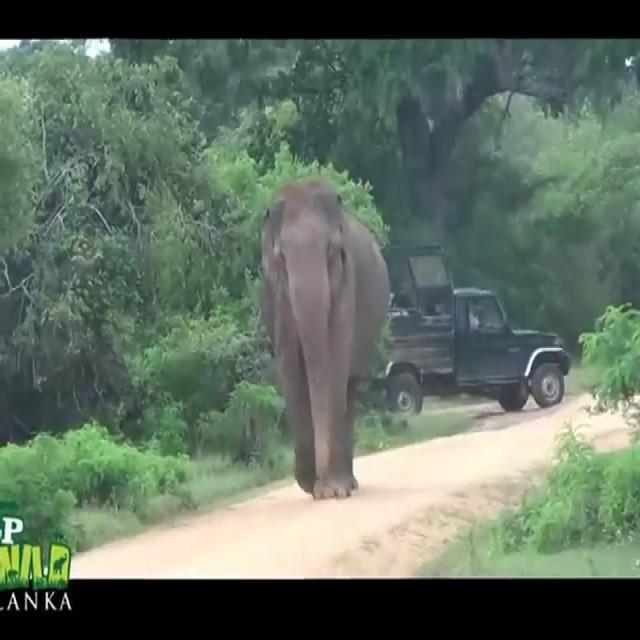Elephant: (257, 177, 390, 500)
